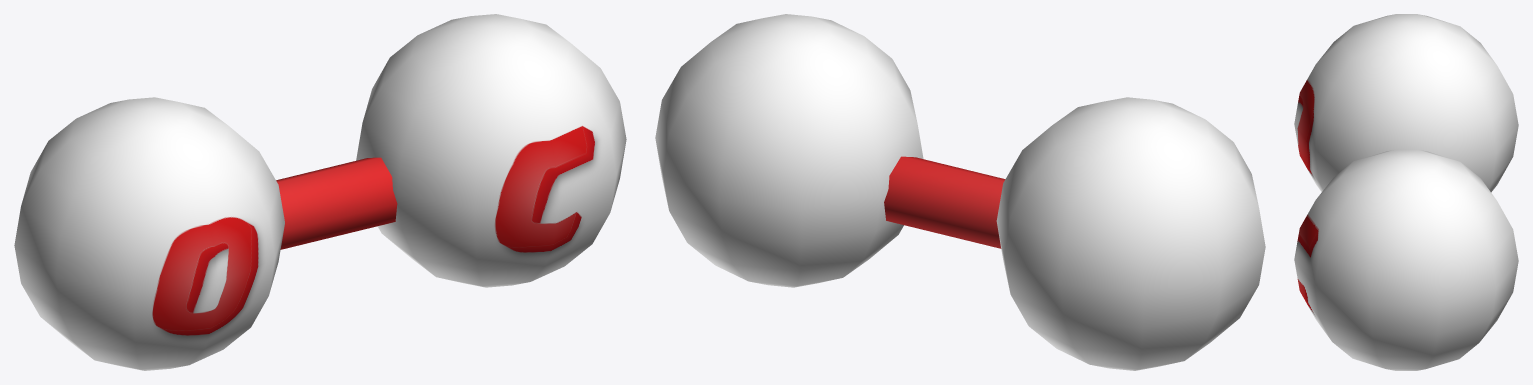
The model's file is Carbon monoxide.fbx.
The picture shows the model from 3 angles, left to right: view 1: azimuth 30°, elevation 25°; view 2: azimuth 150°, elevation 25°; view 3: azimuth 270°, elevation 25°; orthographic projection. The views are drawn at different scales.
Visible parts, largest first — view 1: Carbon_monoxide; view 2: Carbon_monoxide; view 3: Carbon_monoxide.
Part boxes in pixels (x1,y1,x2,y2): Carbon_monoxide: (14, 14, 626, 370); Carbon_monoxide: (655, 14, 1265, 370); Carbon_monoxide: (1294, 14, 1518, 370).
Bounding box in the file's own units: 22.89 × 9.6 × 9.6.
